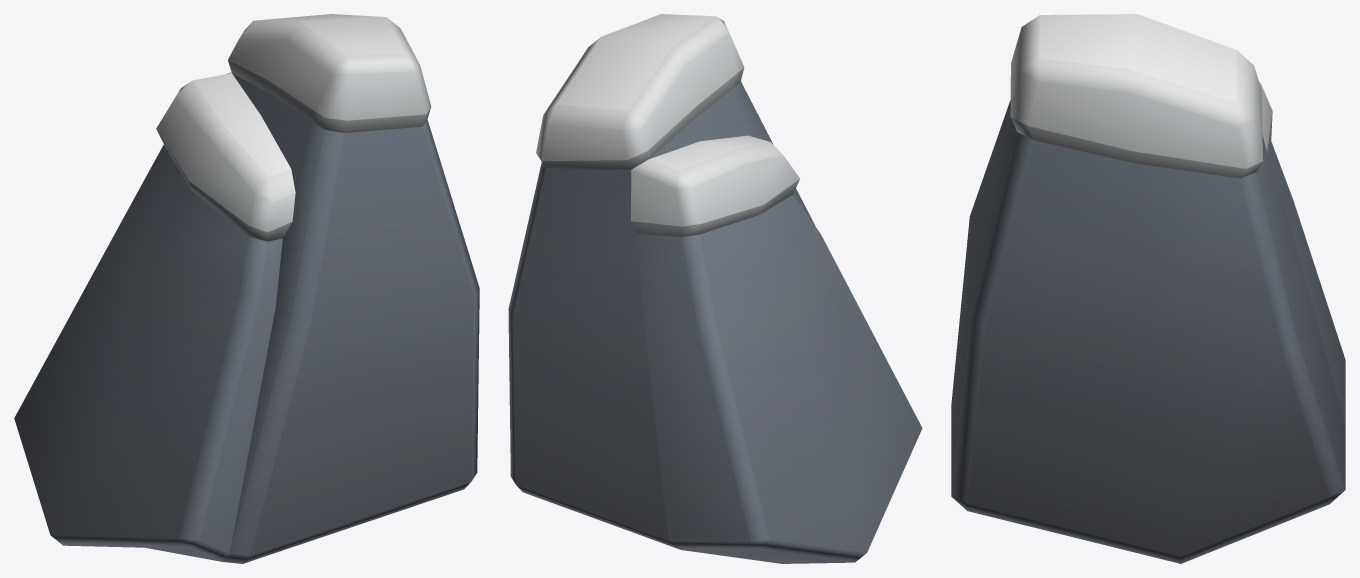
File: rock_snow_011.fbx
3 renders of one model, left to right at view 1: azimuth 30°, elevation 25°; view 2: azimuth 150°, elevation 25°; view 3: azimuth 270°, elevation 25°, orthographic. The views are drawn at different scales.
Parts seen in each view (by area): view 1: rock_snow_011; view 2: rock_snow_011; view 3: rock_snow_011.
Part boxes in pixels (left/top/right/bottom): rock_snow_011: left=14, top=14, right=479, bottom=563; rock_snow_011: left=508, top=14, right=922, bottom=563; rock_snow_011: left=951, top=14, right=1345, bottom=563.
Bounding box in the file's own units: 135 × 186 × 124.
